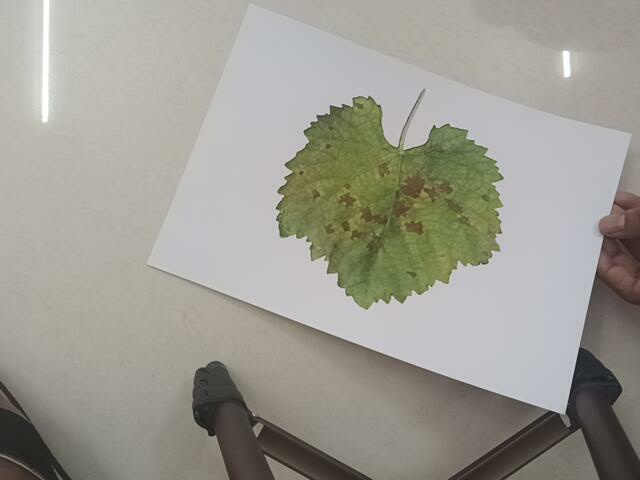Grape_Leaf_Vine_Disease: (275, 110, 519, 305)
